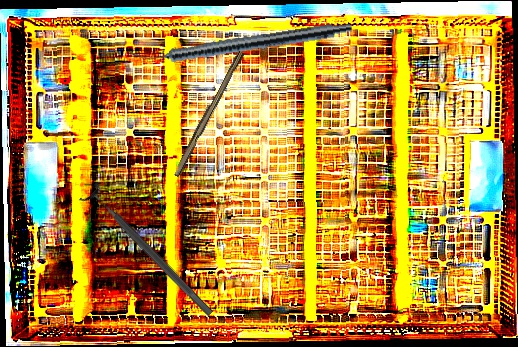Fixation Ring: (77, 181, 221, 324)
Handpiece: (128, 15, 355, 71)
Scalpel Handle: (171, 48, 245, 179)
